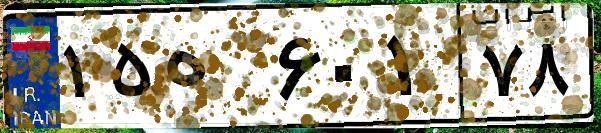0: (330, 28, 385, 110)
1: (385, 28, 445, 110), (57, 26, 110, 100)
5: (110, 28, 158, 98)
6: (270, 28, 330, 110)
7: (475, 38, 525, 113)
8: (525, 38, 570, 115)
ه: (158, 20, 270, 120)
